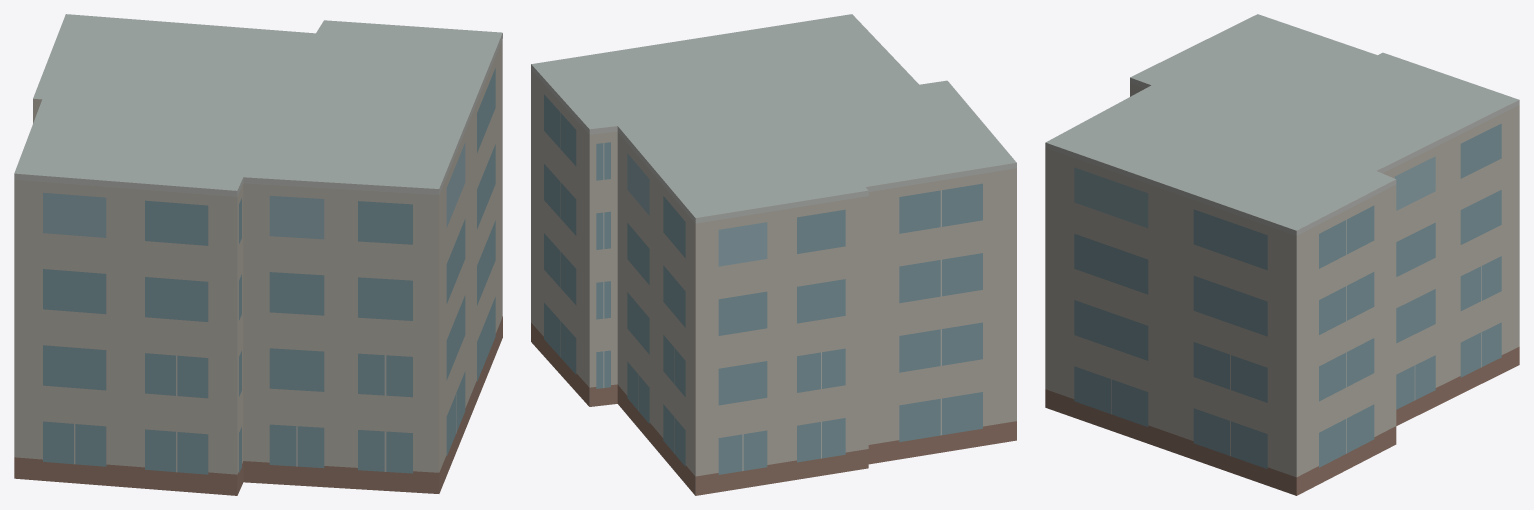
Rendered from survey-upis-33006819.glb.
3 views of the same model, side by side, from view 1: azimuth 30°, elevation 25°; view 2: azimuth 150°, elevation 25°; view 3: azimuth 270°, elevation 25° (orthographic). The views are drawn at different scales.
Parts seen in each view (by area): view 1: survey-upis-33006819.tmp; view 2: survey-upis-33006819.tmp; view 3: survey-upis-33006819.tmp.
Part boxes in pixels (left/top/right/bottom): survey-upis-33006819.tmp: left=14, top=14, right=502, bottom=495; survey-upis-33006819.tmp: left=531, top=14, right=1016, bottom=495; survey-upis-33006819.tmp: left=1045, top=14, right=1519, bottom=495.
Bounding box in the file's own units: 21.66 × 12.35 × 20.02.
